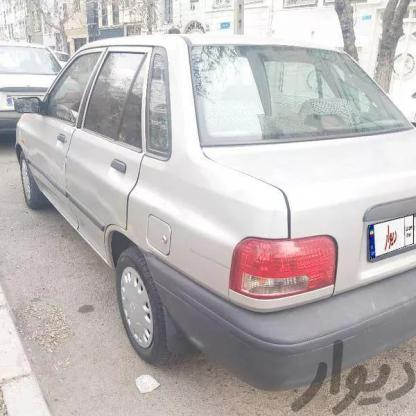Car: (0, 29, 416, 368), (0, 47, 59, 129)
